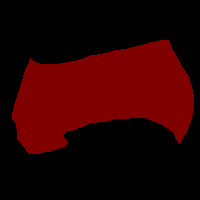mutande: (11, 39, 194, 154)
